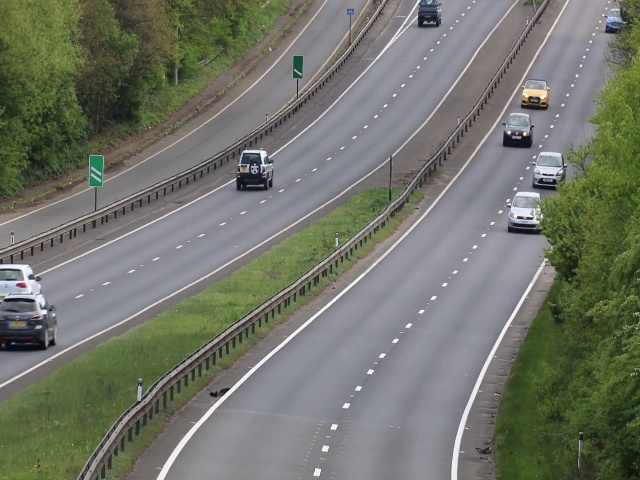car: (1, 293, 57, 350), (235, 150, 277, 190), (507, 190, 543, 229), (1, 262, 42, 296), (534, 152, 564, 187), (502, 112, 531, 145), (521, 78, 550, 110), (416, 1, 444, 28), (604, 6, 625, 33)
